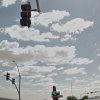Traffic light: (13, 2, 35, 37)
